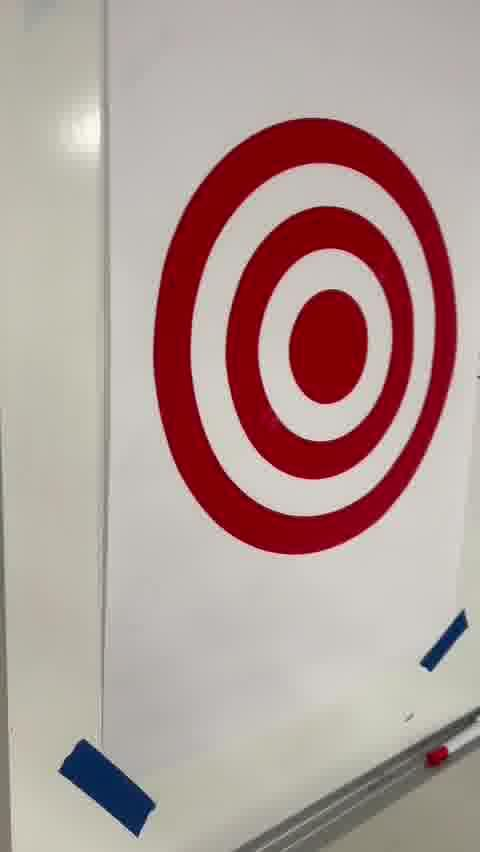target_red: (150, 114, 458, 550)
